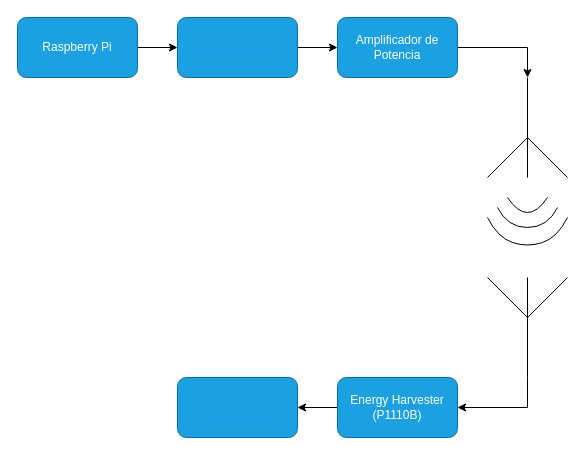
The diagram is 585 pixels wide and 455 high, and some of its shapes have lost their labels. Each missing label, with the centre of its shape:
"Batería" goes at point 237,407.
"Oscilador 915Mhz" goes at point 237,47.
